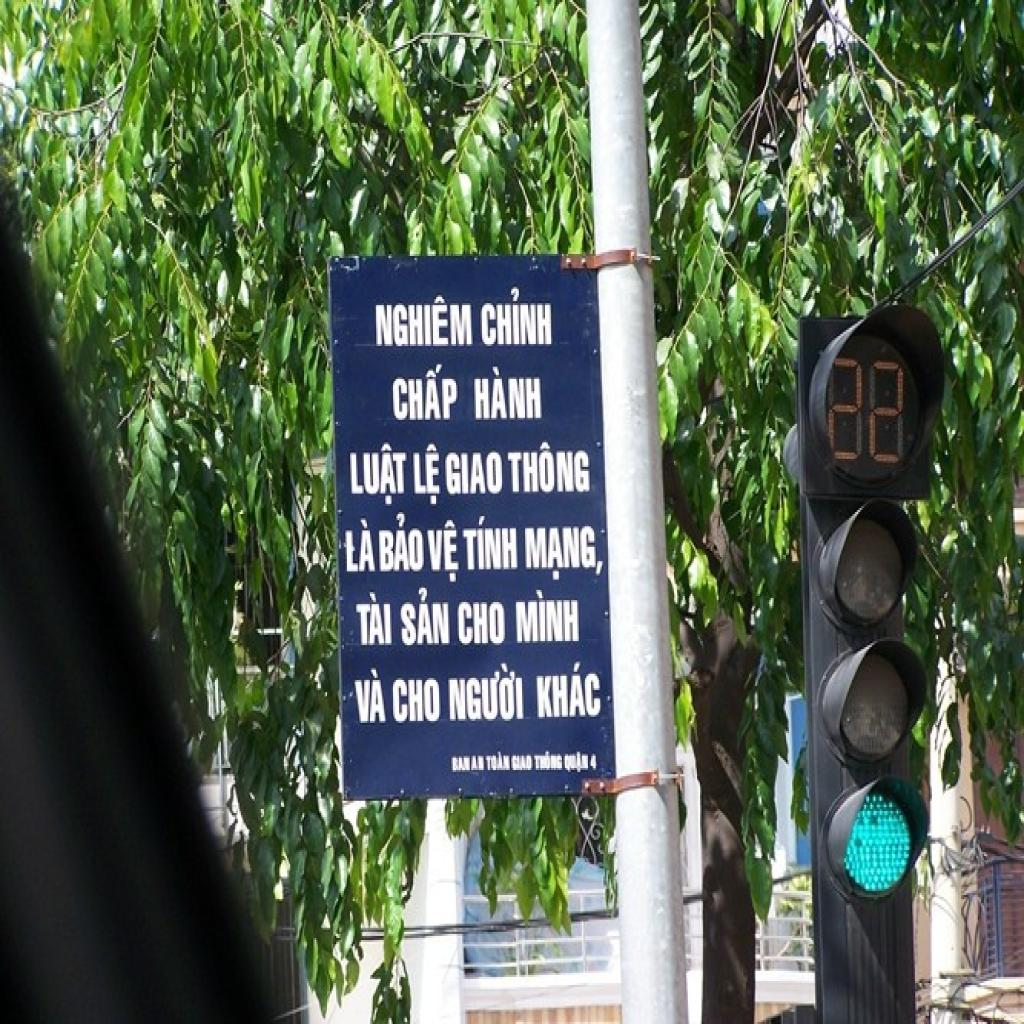text: (372, 293, 478, 352), (505, 432, 594, 500), (476, 285, 559, 352), (447, 659, 528, 725), (387, 360, 464, 428), (522, 524, 608, 584), (470, 358, 545, 426), (532, 655, 606, 723), (346, 440, 412, 508), (511, 588, 585, 647), (457, 510, 522, 577), (394, 584, 452, 649), (444, 448, 506, 502), (376, 512, 428, 575), (424, 512, 464, 588), (392, 674, 444, 727), (455, 600, 508, 647), (353, 590, 395, 649), (412, 440, 446, 510), (350, 668, 388, 729), (344, 514, 378, 573), (562, 748, 591, 776), (532, 748, 564, 772), (485, 750, 511, 772), (510, 754, 534, 772), (450, 756, 471, 774), (471, 754, 487, 774), (590, 752, 598, 774)
